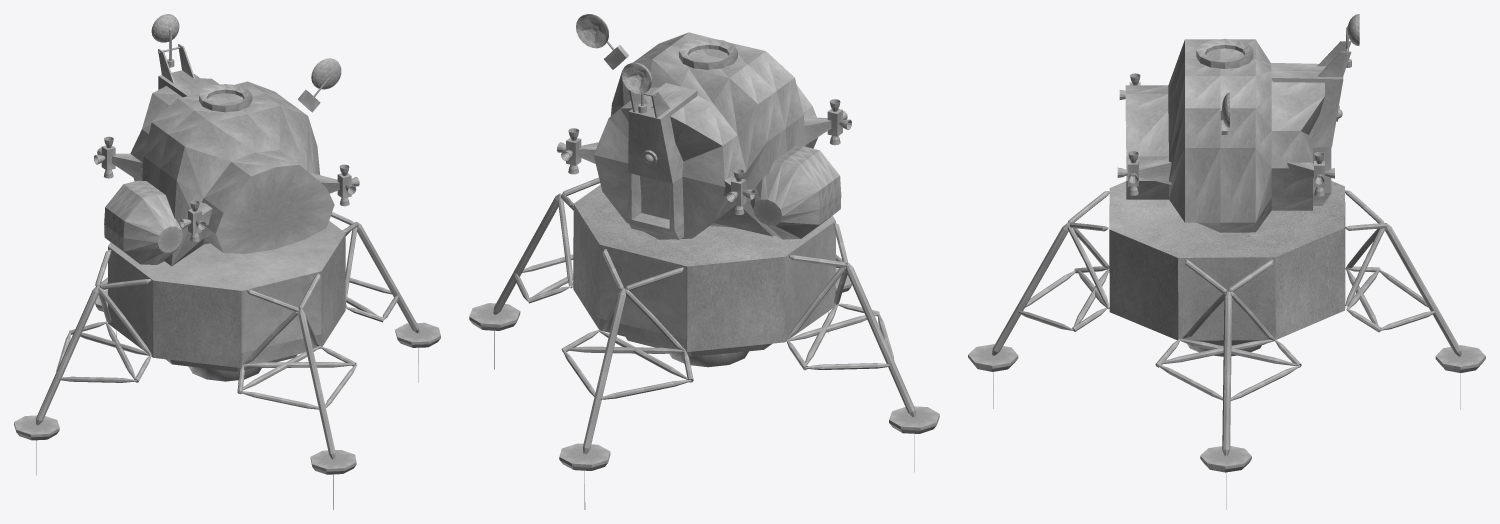
3 renders of one model, left to right at view 1: azimuth 30°, elevation 25°; view 2: azimuth 150°, elevation 25°; view 3: azimuth 270°, elevation 25°, orthographic. The views are drawn at different scales.
Visible parts, largest first — view 1: Shape_IndexedFaceSet.002_Shape_IndexedFaceSet.036, Shape_IndexedFaceSet_Shape_IndexedFaceSet.034, Shape_IndexedFaceSet.001_Shape_IndexedFaceSet.035; view 2: Shape_IndexedFaceSet.002_Shape_IndexedFaceSet.036, Shape_IndexedFaceSet_Shape_IndexedFaceSet.034, Shape_IndexedFaceSet.001_Shape_IndexedFaceSet.035; view 3: Shape_IndexedFaceSet_Shape_IndexedFaceSet.034, Shape_IndexedFaceSet.002_Shape_IndexedFaceSet.036, Shape_IndexedFaceSet.001_Shape_IndexedFaceSet.035.
Boxes of the visible parts, x1=… form: Shape_IndexedFaceSet.002_Shape_IndexedFaceSet.036: x1=14, y1=14, x2=440, y2=509; Shape_IndexedFaceSet_Shape_IndexedFaceSet.034: x1=36, y1=212, x2=418, y2=454; Shape_IndexedFaceSet.001_Shape_IndexedFaceSet.035: x1=94, y1=136, x2=359, y2=381; Shape_IndexedFaceSet.002_Shape_IndexedFaceSet.036: x1=469, y1=14, x2=939, y2=509; Shape_IndexedFaceSet_Shape_IndexedFaceSet.034: x1=493, y1=177, x2=914, y2=448; Shape_IndexedFaceSet.001_Shape_IndexedFaceSet.035: x1=557, y1=99, x2=851, y2=367; Shape_IndexedFaceSet_Shape_IndexedFaceSet.034: x1=993, y1=181, x2=1460, y2=449; Shape_IndexedFaceSet.002_Shape_IndexedFaceSet.036: x1=968, y1=14, x2=1485, y2=509; Shape_IndexedFaceSet.001_Shape_IndexedFaceSet.035: x1=1117, y1=73, x2=1344, y2=356.
Size of the model in its own units: 1.23 by 1.03 by 1.23.
